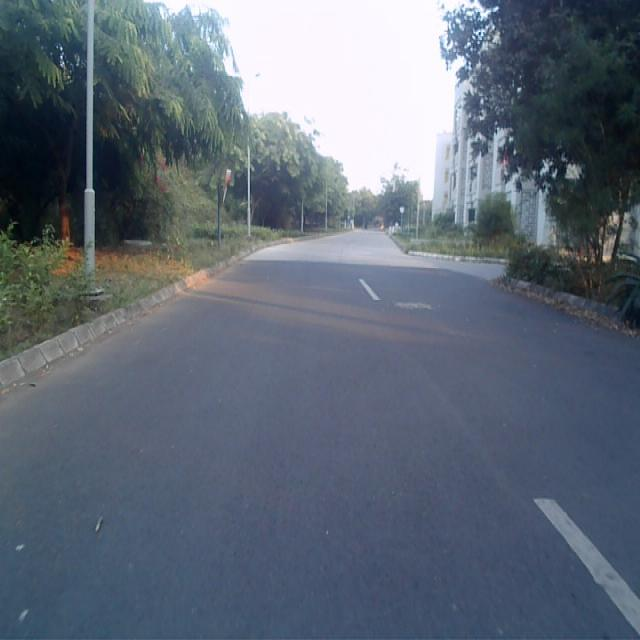lane: (0, 263, 640, 640)
